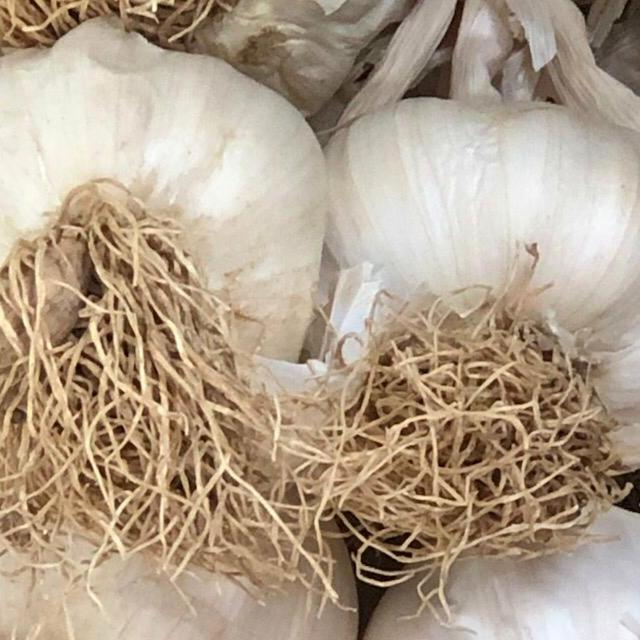garlic: (0, 27, 330, 547), (310, 65, 640, 562)
